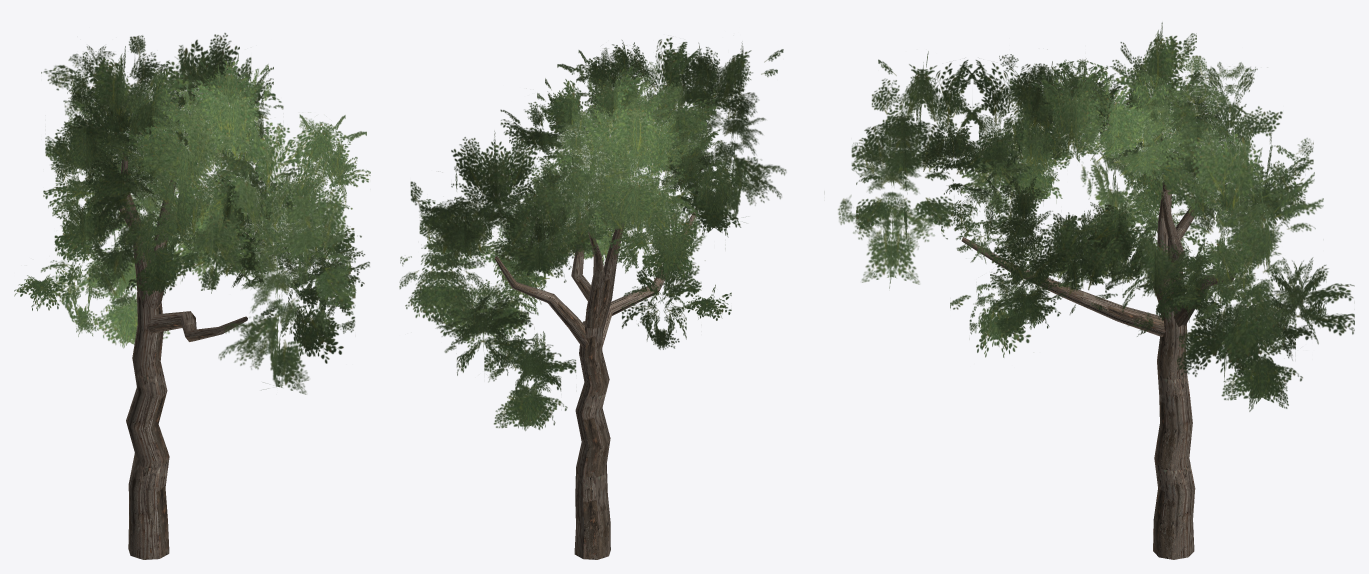
File: broadleaf.glb
The picture shows the model from 3 angles, left to right: view 1: azimuth 30°, elevation 25°; view 2: azimuth 150°, elevation 25°; view 3: azimuth 270°, elevation 25°; orthographic projection. The views are drawn at different scales.
Visible parts, largest first — view 1: wood; view 2: wood; view 3: wood.
Boxes of the visible parts, x1=… form: wood: x1=14, y1=33, x2=370, y2=559; wood: x1=399, y1=37, x2=786, y2=559; wood: x1=838, y1=22, x2=1354, y2=559.
Bounding box in the file's own units: 5.9 × 9.03 × 8.7.
Materials: 2 (2 with a texture image).
